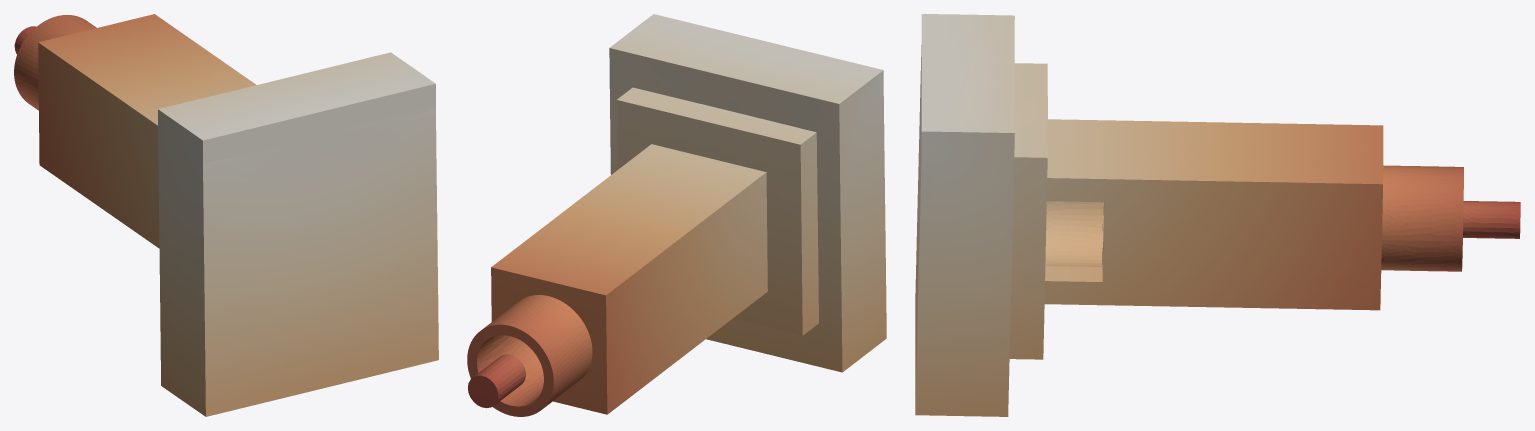
File: pilot_nom_Fz_u.glb
The picture shows the model from 3 angles, left to right: view 1: azimuth 30°, elevation 25°; view 2: azimuth 150°, elevation 25°; view 3: azimuth 270°, elevation 25°; orthographic projection. The views are drawn at different scales.
Parts seen in each view (by area): view 1: geometry_0; view 2: geometry_0; view 3: geometry_0.
Boxes of the visible parts, <box> form: geometry_0: <box>14,14,438,416</box>; geometry_0: <box>467,14,886,416</box>; geometry_0: <box>915,14,1520,416</box>.
Size of the model in its own units: 120 by 136 by 261.
